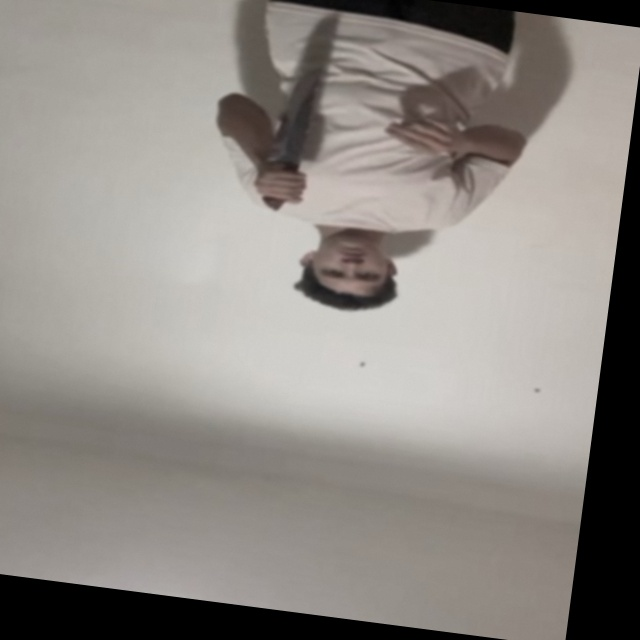Sharp-Object: (268, 69, 323, 169)
